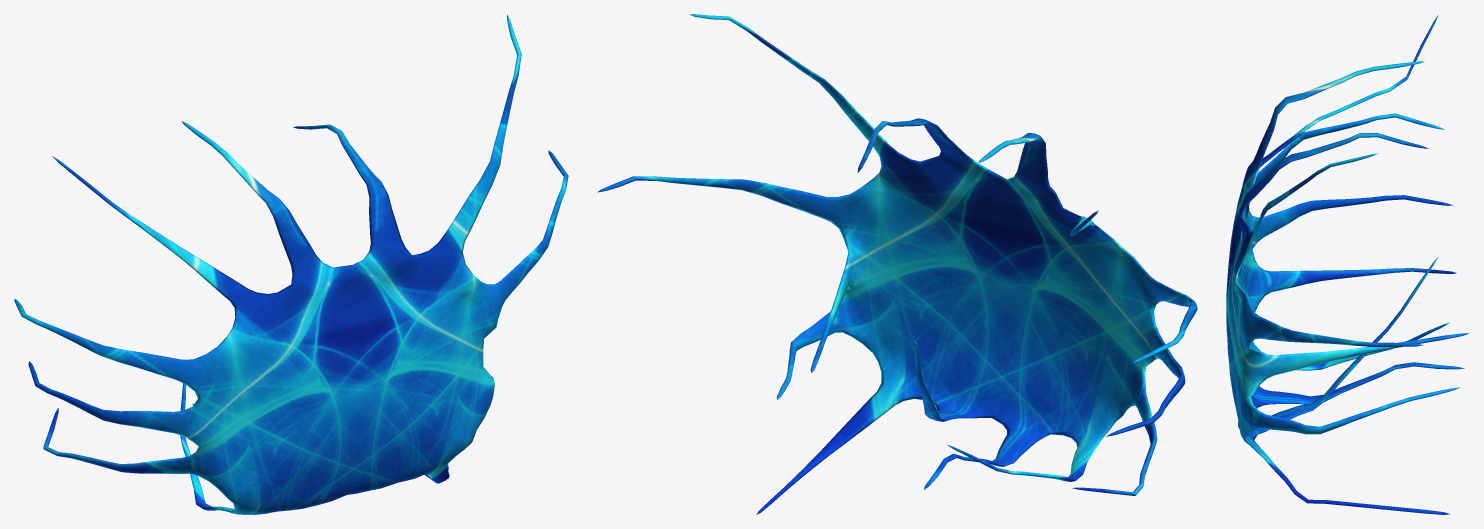
Rendered from Virus1.FBX.
The picture shows the model from 3 angles, left to right: view 1: azimuth 30°, elevation 25°; view 2: azimuth 150°, elevation 25°; view 3: azimuth 270°, elevation 25°; orthographic projection. The views are drawn at different scales.
Visible parts, largest first — view 1: Virus1; view 2: Virus1; view 3: Virus1.
Part boxes in pixels (bbox=[...]): Virus1: bbox=[14, 15, 568, 514]; Virus1: bbox=[597, 14, 1197, 514]; Virus1: bbox=[1226, 15, 1469, 514].
Size of the model in its own units: 2.64 by 1.99 by 1.07.
1 material, 1 textured.
